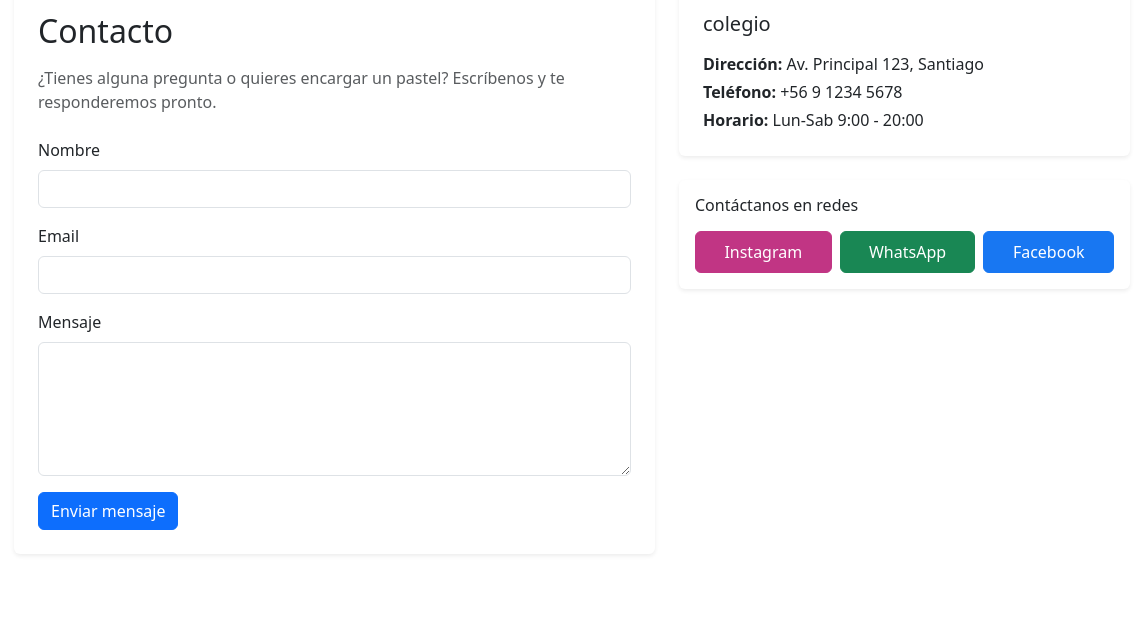
Scenario: Contacto page › debe validar que el email sea válido
Type "Juan Pérez" into the field labelled "Nombre" at (334, 189), box [38,170,631,208]
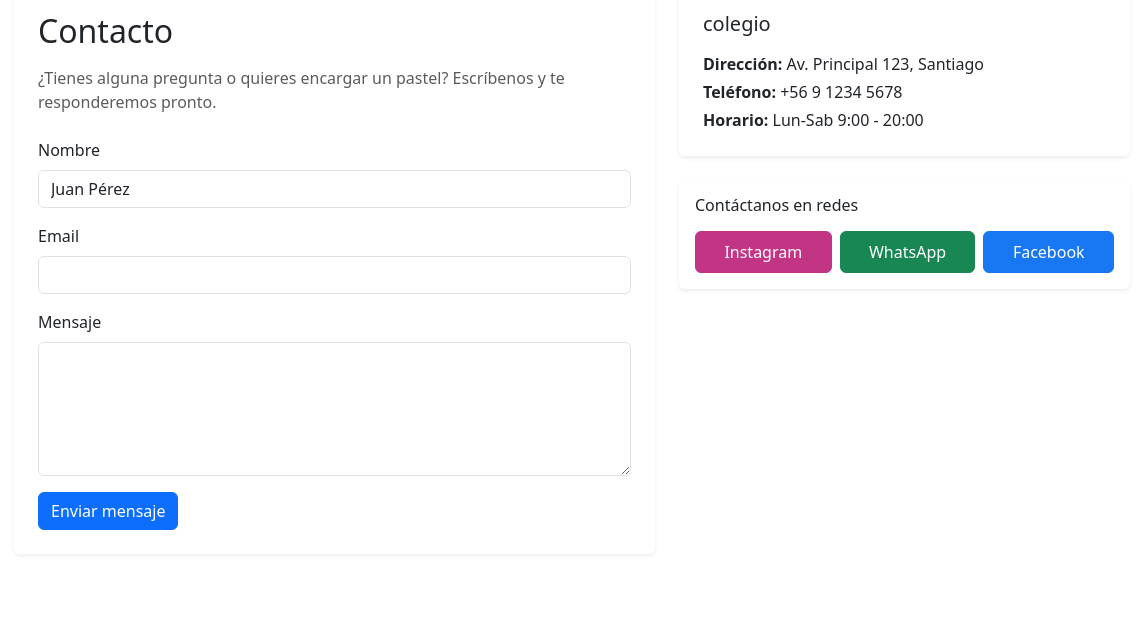
Type "email-inválido" into the field labelled "Email" at (334, 275), box [38,256,631,294]
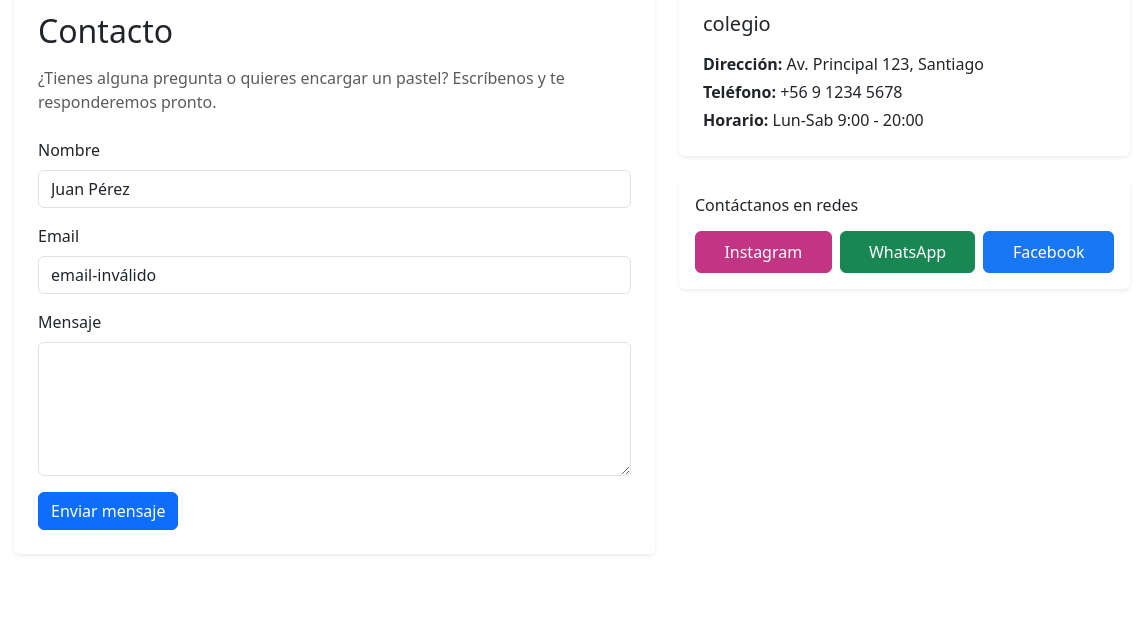
Click the button "Enviar mensaje" at (108, 511), box [38,492,178,530]
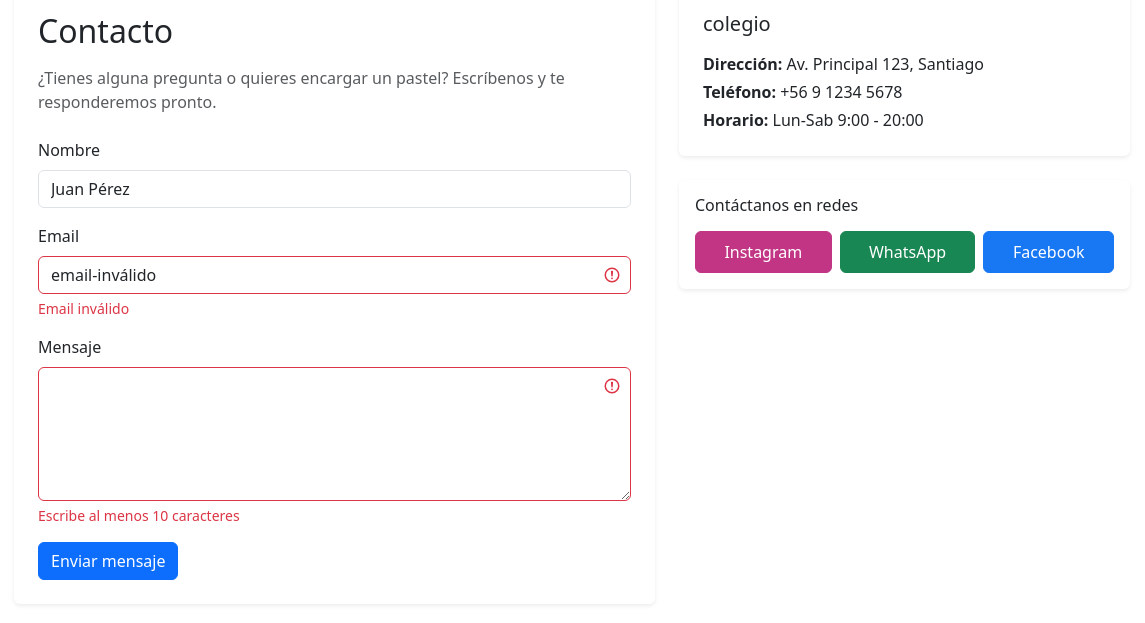
Result: the text "Email inválido" is shown at [38,299,129,318]
